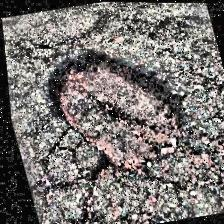pothole: (35, 34, 197, 184)
